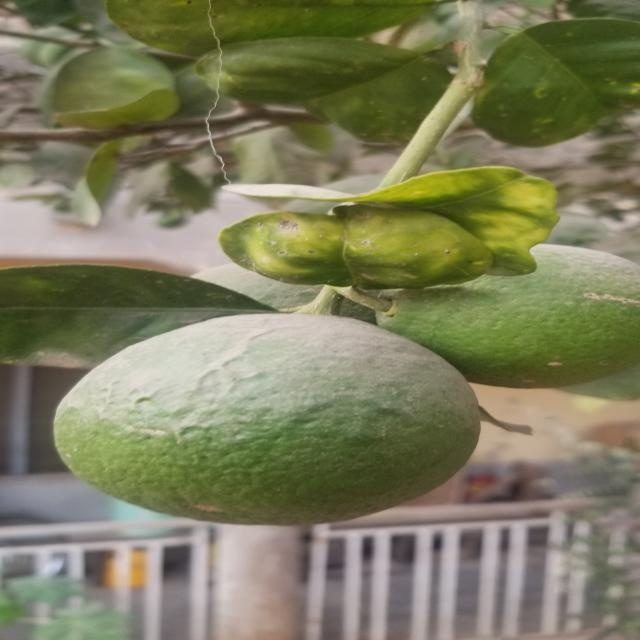agrume: (26, 303, 503, 549)
